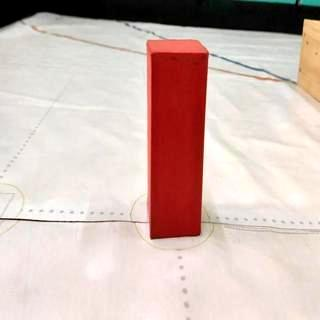redbox: (146, 39, 208, 239)
